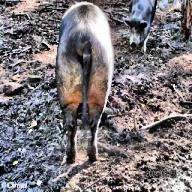boar: (54, 0, 113, 164)
